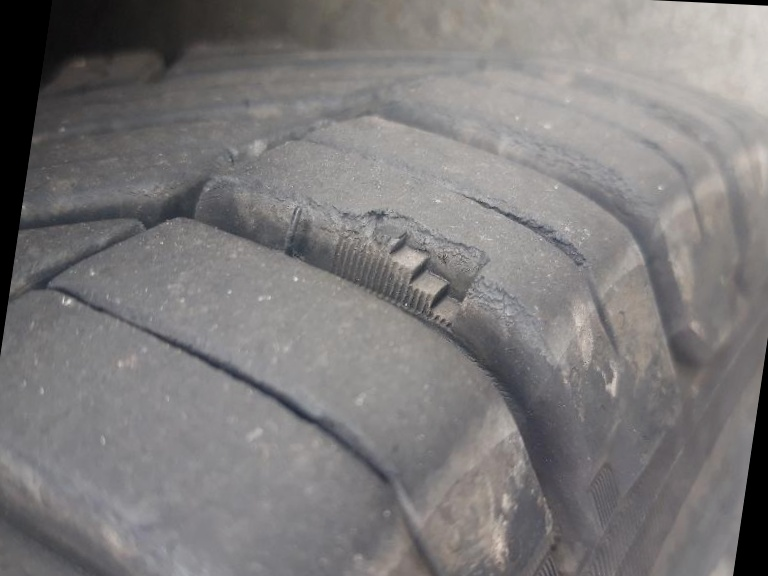temoin:80: (312, 195, 507, 343)
